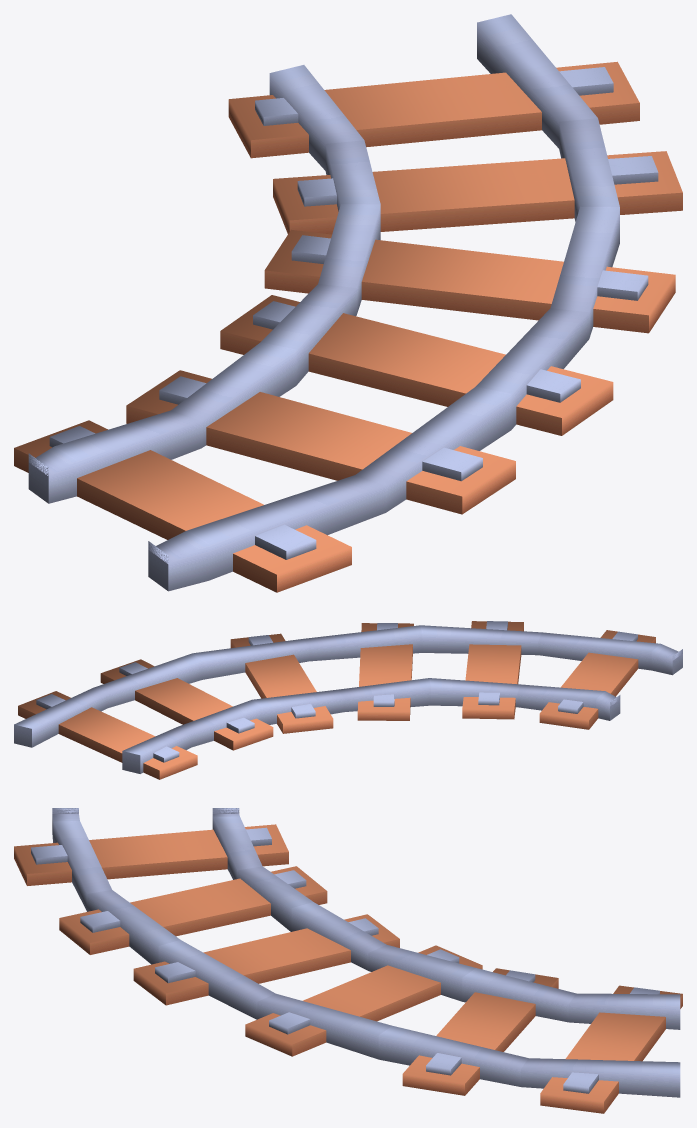
File: railroad-damaged-corner-small.glb
3 renders of one model, top to bottom at view 1: azimuth 30°, elevation 25°; view 2: azimuth 150°, elevation 25°; view 3: azimuth 270°, elevation 25°, orthographic. The views are drawn at different scales.
Parts seen in each view (by area): view 1: railroad-damaged-corner-small; view 2: railroad-damaged-corner-small; view 3: railroad-damaged-corner-small.
Part boxes in pixels (x1,y1,x2,y2): railroad-damaged-corner-small: (14, 14, 682, 592); railroad-damaged-corner-small: (14, 621, 682, 779); railroad-damaged-corner-small: (14, 808, 682, 1113).
Bounding box in the file's own units: 2.49 × 0.0999 × 2.5.
Materials: 1 (1 with a texture image).
